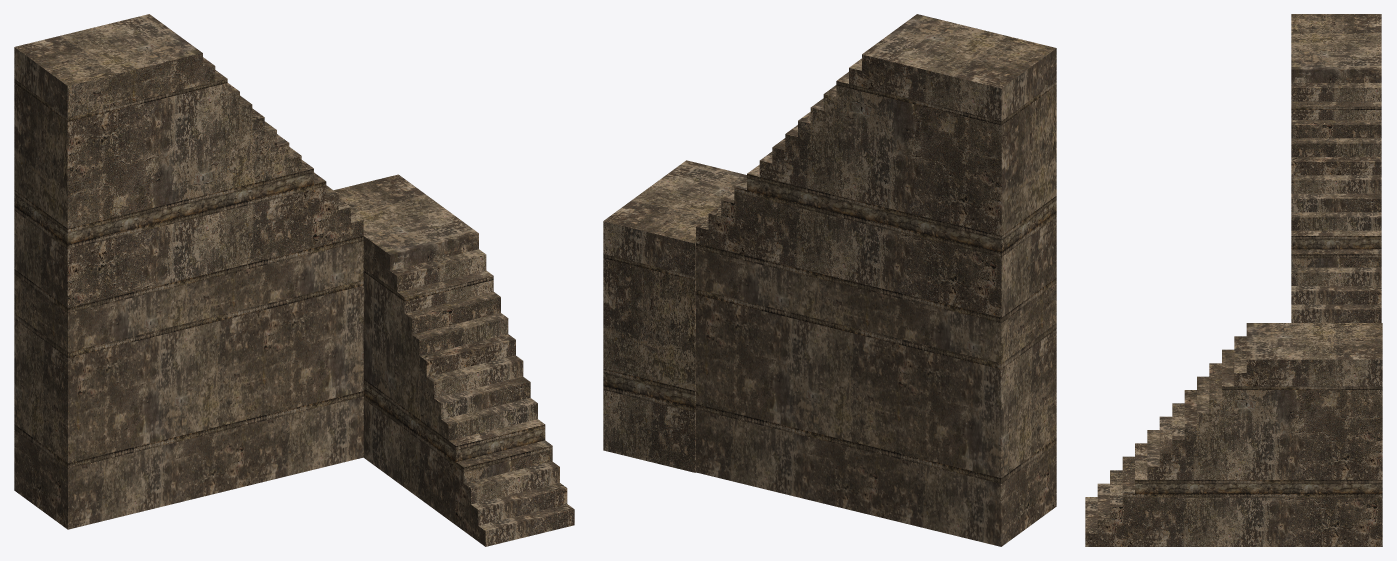
The model's file is materials_5_stairblock_14.fbx.
3 views of the same model, side by side, from view 1: azimuth 30°, elevation 25°; view 2: azimuth 150°, elevation 25°; view 3: azimuth 270°, elevation 25° (orthographic). The views are drawn at different scales.
Visible parts, largest first — view 1: materials_5_stairblock_14; view 2: materials_5_stairblock_14; view 3: materials_5_stairblock_14.
Part boxes in pixels (<box>): materials_5_stairblock_14: <box>14,14,574,546</box>; materials_5_stairblock_14: <box>603,14,1056,546</box>; materials_5_stairblock_14: <box>1085,14,1382,546</box>.
Size of the model in its own units: 481 by 529 by 381.
